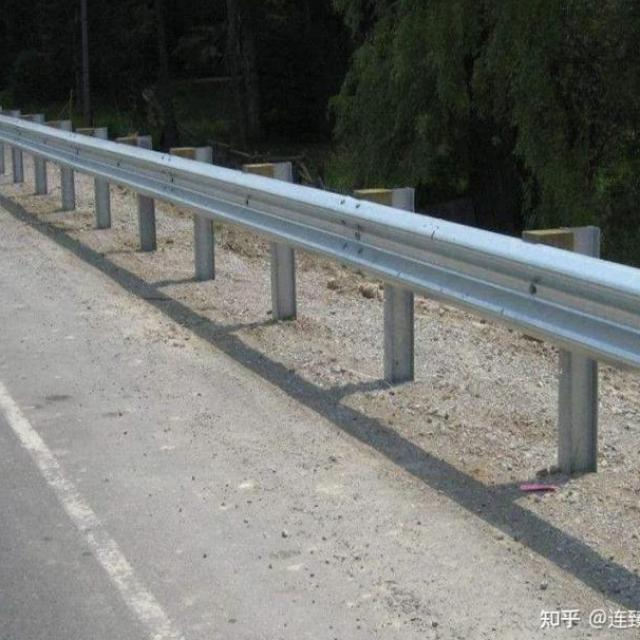Guard rail: (0, 116, 640, 370)
